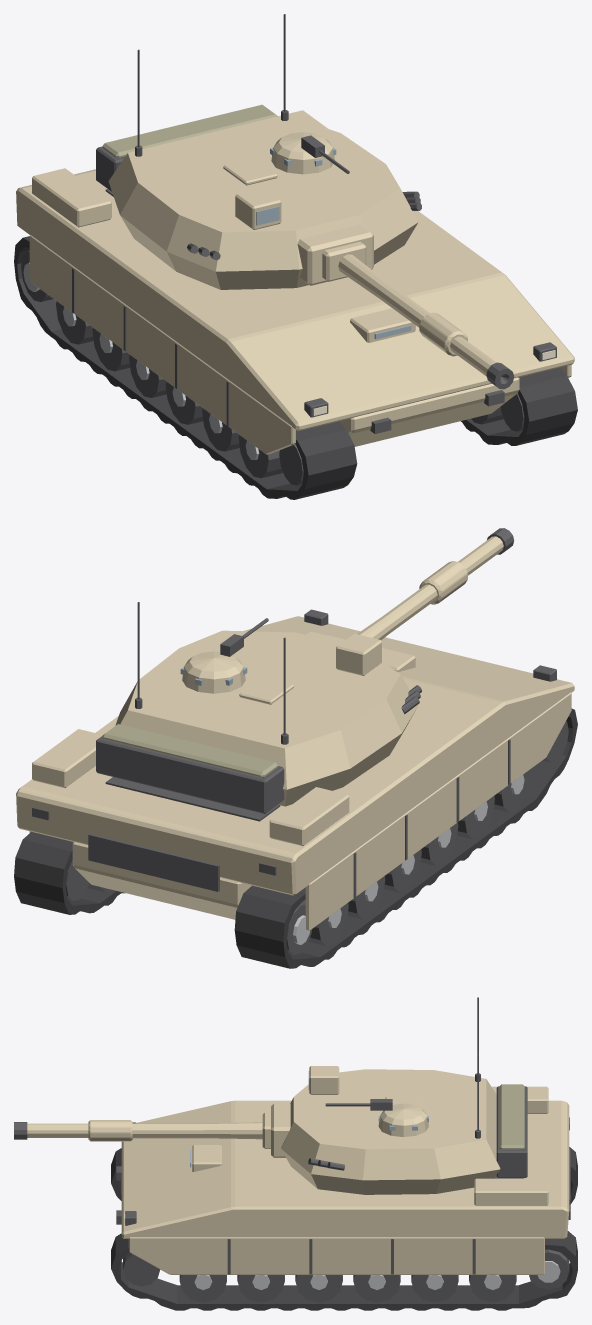
The model's file is Tank.fbx.
3 views of the same model, one above another, from view 1: azimuth 30°, elevation 25°; view 2: azimuth 150°, elevation 25°; view 3: azimuth 270°, elevation 25° (orthographic). The views are drawn at different scales.
Parts seen in each view (by area): view 1: Body, Turret, Gun; view 2: Body, Turret, Gun; view 3: Body, Turret, Gun.
Boxes of the visible parts, x1=… form: Body: x1=14, y1=110, x2=577, y2=499; Turret: x1=96, y1=14, x2=421, y2=289; Gun: x1=297, y1=224, x2=514, y2=389; Body: x1=14, y1=609, x2=577, y2=968; Turret: x1=96, y1=602, x2=421, y2=813; Gun: x1=306, y1=528, x2=514, y2=643; Body: x1=111, y1=1086, x2=577, y2=1310; Turret: x1=281, y1=997, x2=527, y2=1194; Gun: x1=14, y1=1103, x2=290, y2=1157.
Size of the model in its own units: 3.48 by 3.46 by 7.6.
